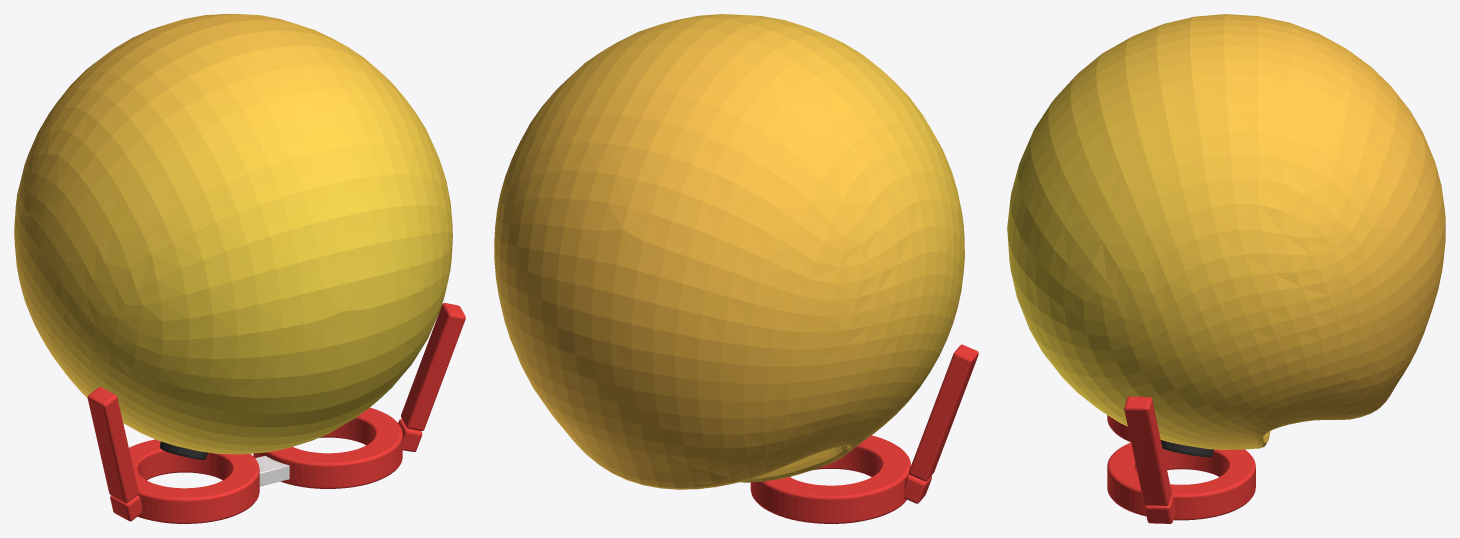
File: Emoji With Glasses.obj
The picture shows the model from 3 angles, left to right: view 1: azimuth 30°, elevation 25°; view 2: azimuth 150°, elevation 25°; view 3: azimuth 270°, elevation 25°; orthographic projection. The views are drawn at different scales.
Parts seen in each view (by area): view 1: Object.1, Object.2, Object.3, Object.4; view 2: Object.1, Object.2, Object.4; view 3: Object.1, Object.2, Object.3.
Part boxes in pixels (box(x1,y1,x2,y2)): Object.1: box(14, 14, 452, 459); Object.2: box(110, 407, 422, 523); Object.3: box(401, 303, 465, 430); Object.4: box(87, 387, 138, 503); Object.1: box(494, 14, 964, 489); Object.2: box(750, 435, 931, 523); Object.4: box(909, 344, 978, 481); Object.1: box(1007, 14, 1445, 457); Object.2: box(1107, 415, 1255, 523); Object.3: box(1124, 396, 1171, 505).
Size of the model in its own units: 16.25 by 17.38 by 16.41.
Materials: 1 (1 with a texture image).
